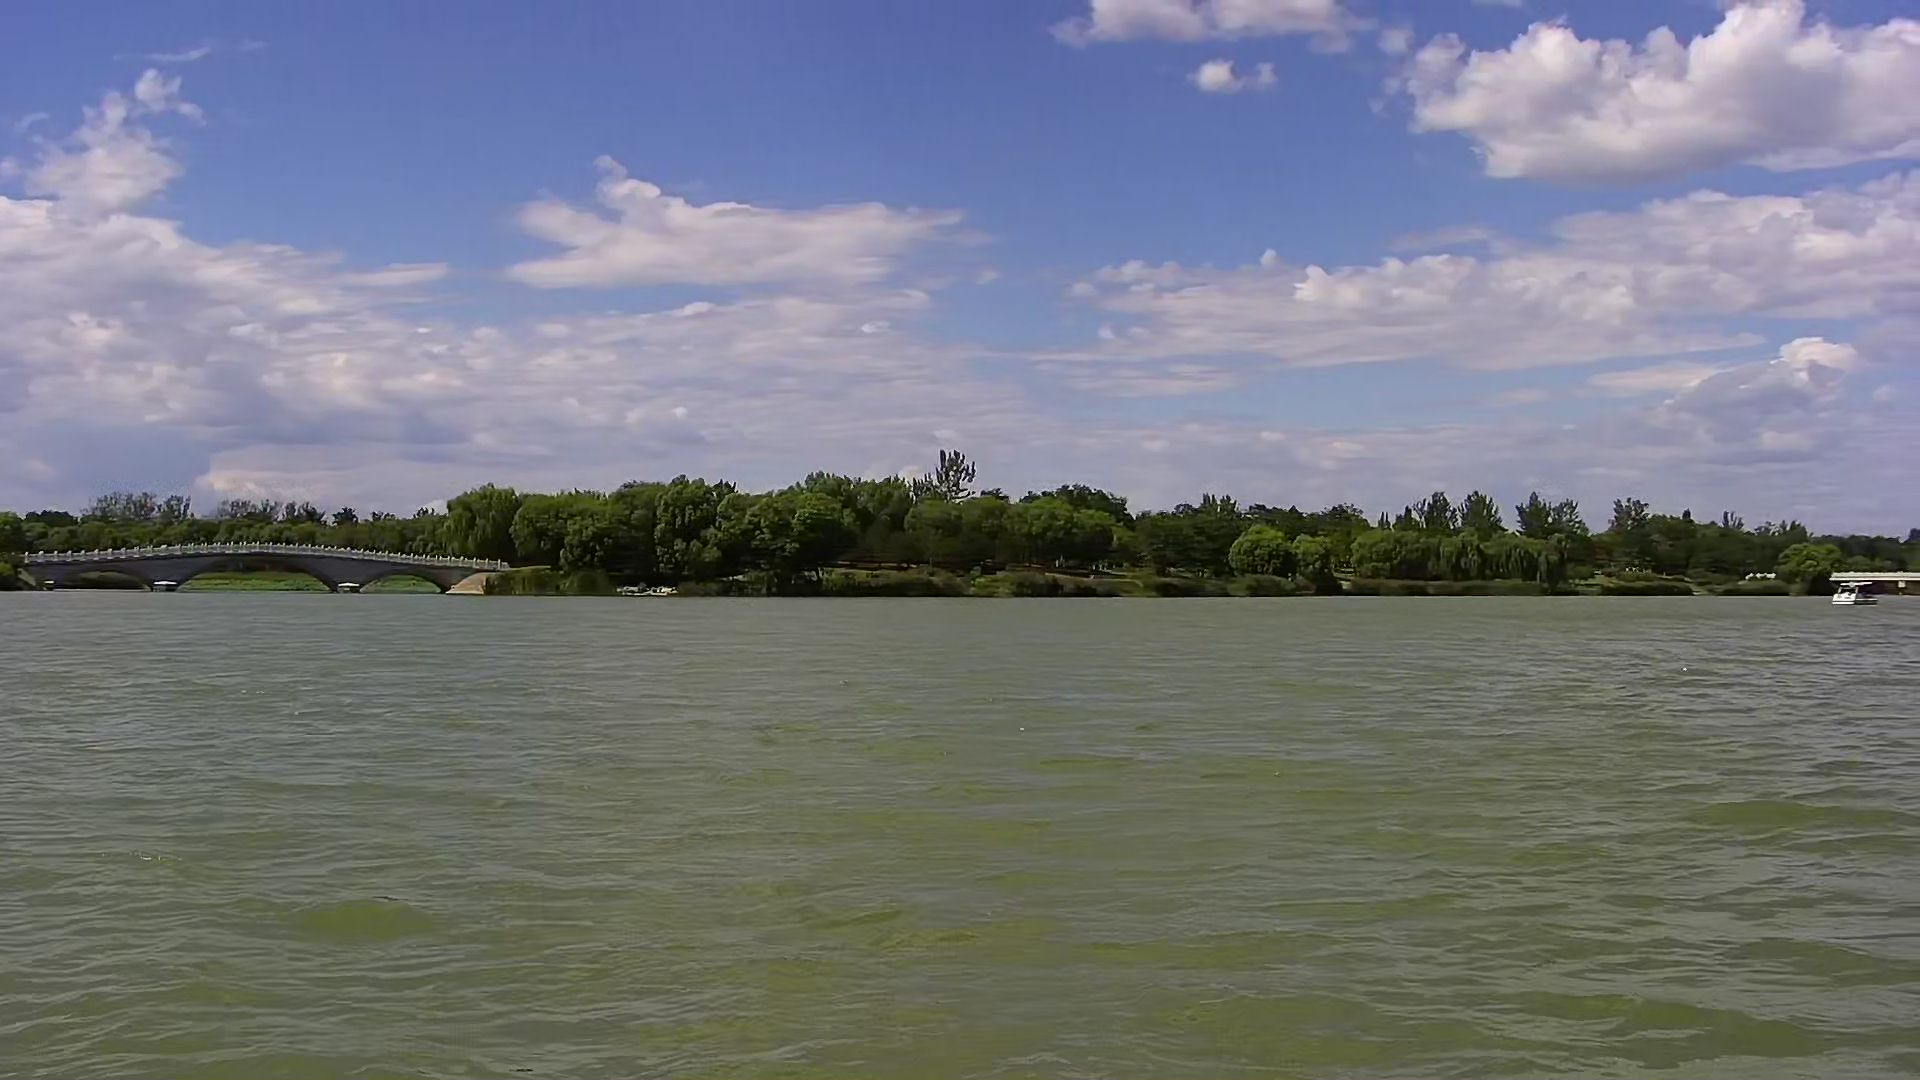boat: (1825, 571, 1884, 615)
bridge: (13, 535, 514, 601)
